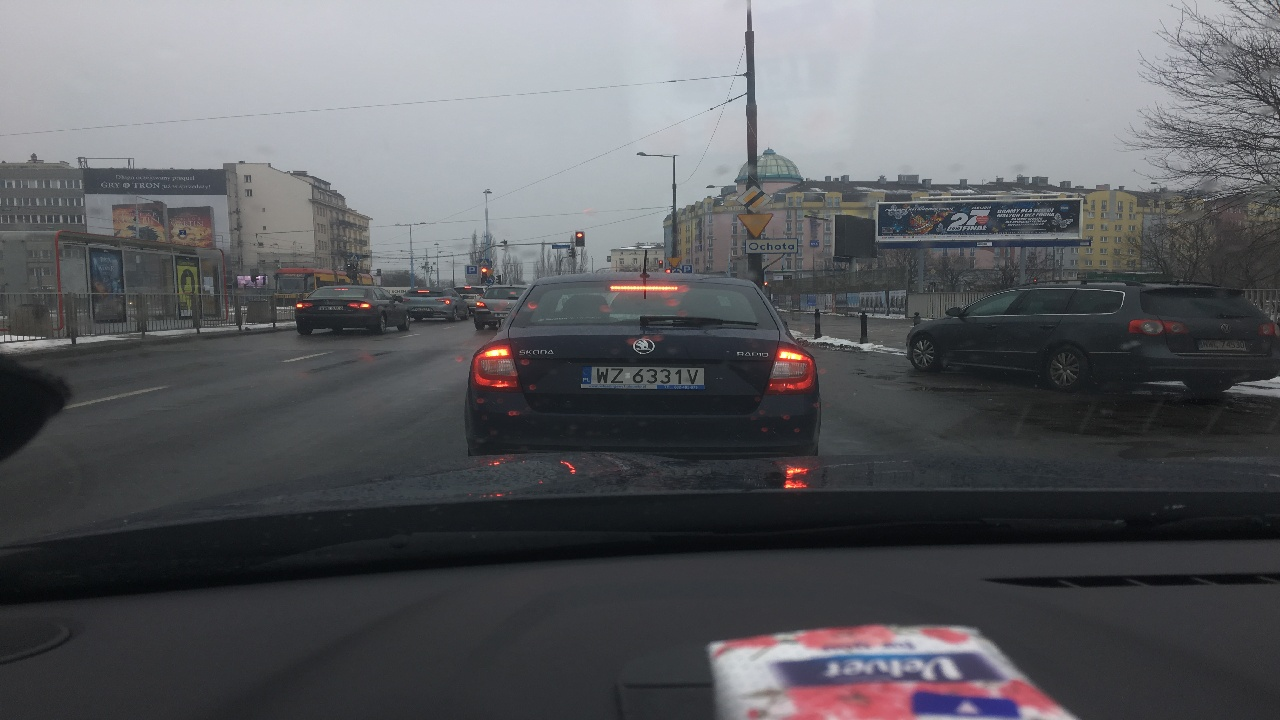A7: (737, 210, 776, 237)
D2: (733, 184, 776, 210)
